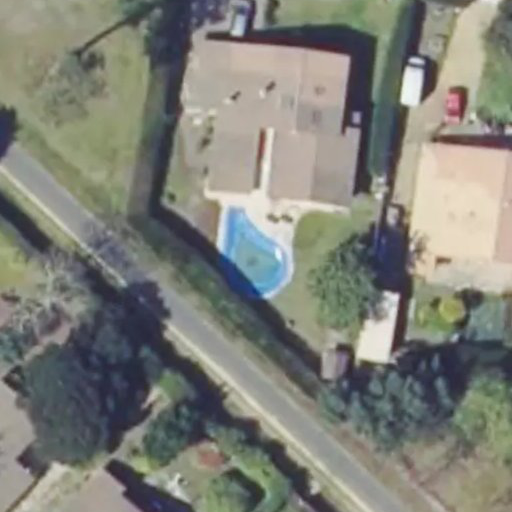pool: (193, 225, 295, 265)
